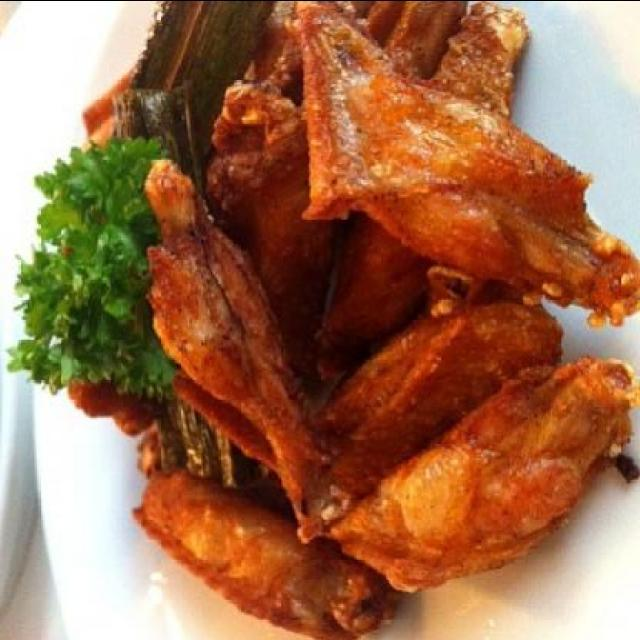Deep fried chicken wing: (116, 9, 600, 616)
